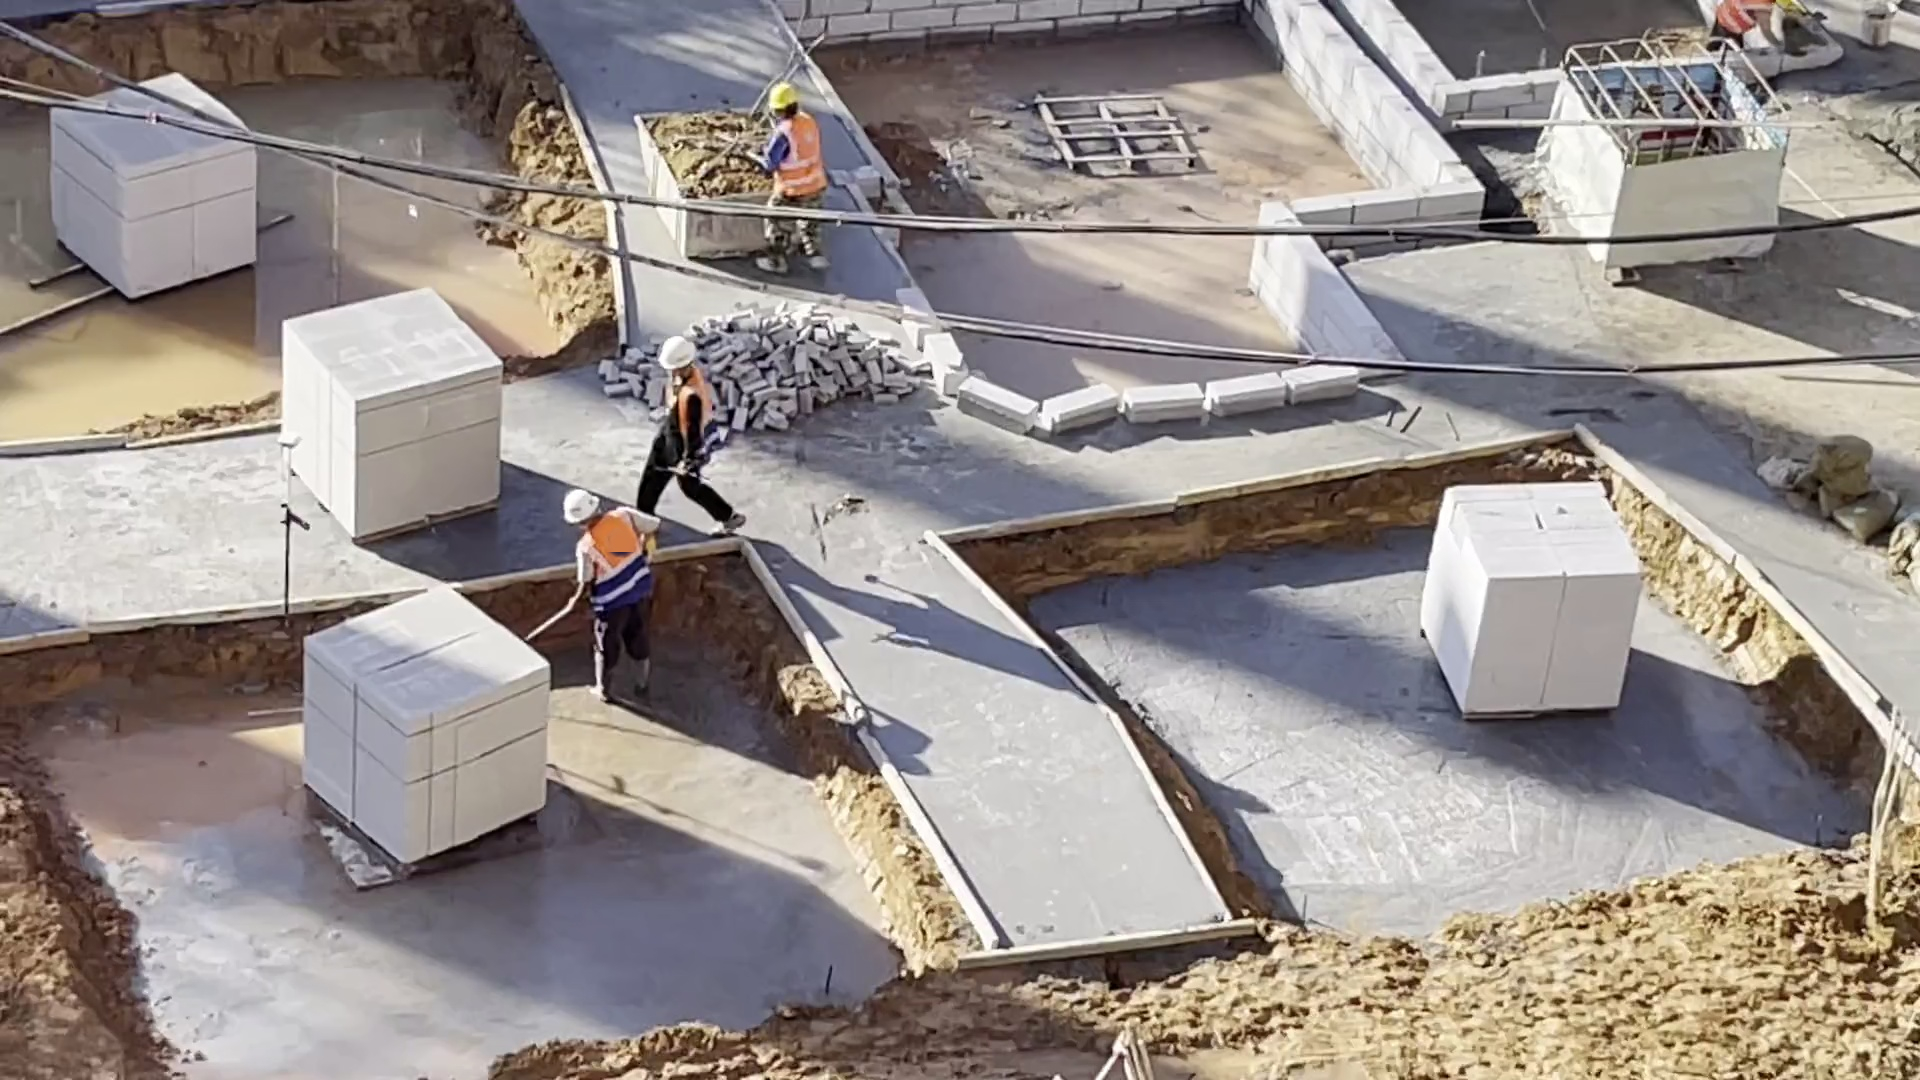brick: (299, 579, 552, 867), (1416, 467, 1650, 723), (280, 283, 504, 534), (42, 131, 257, 300)
helmet: (560, 485, 609, 524), (650, 337, 702, 369), (765, 83, 800, 107)
hopper: (615, 100, 732, 197)
person: (556, 482, 674, 710), (632, 331, 747, 539), (748, 81, 821, 206), (1705, 1, 1814, 59)
vest: (582, 509, 657, 617), (666, 374, 720, 469), (774, 117, 826, 193)
